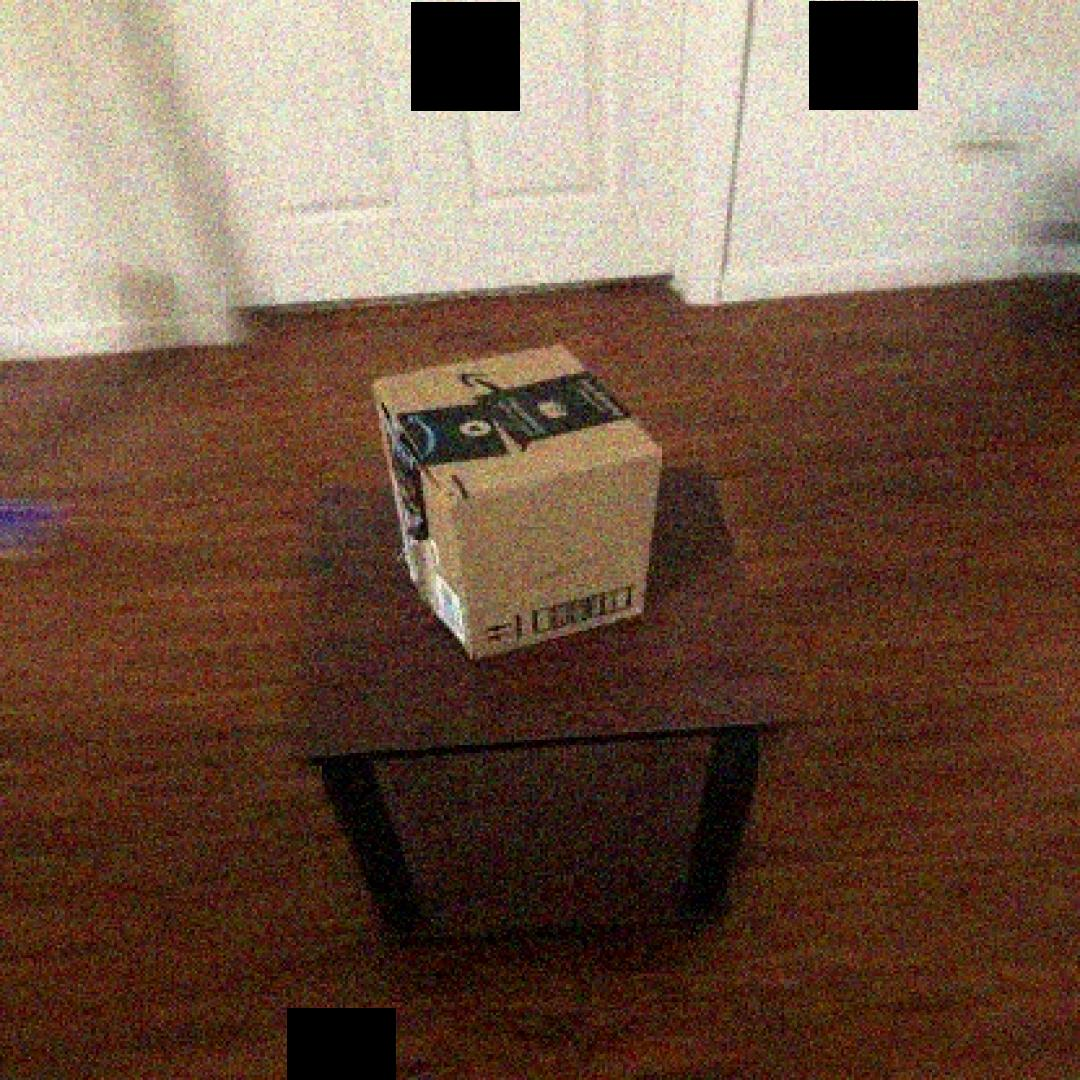package: (358, 342, 680, 668)
